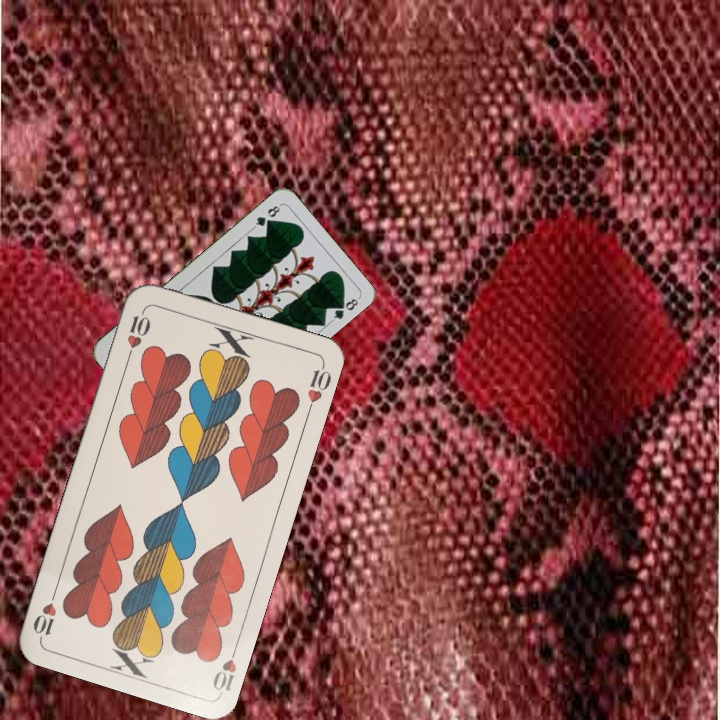G8: (250, 201, 283, 231)
H10: (208, 638, 241, 696), (123, 305, 153, 363)
